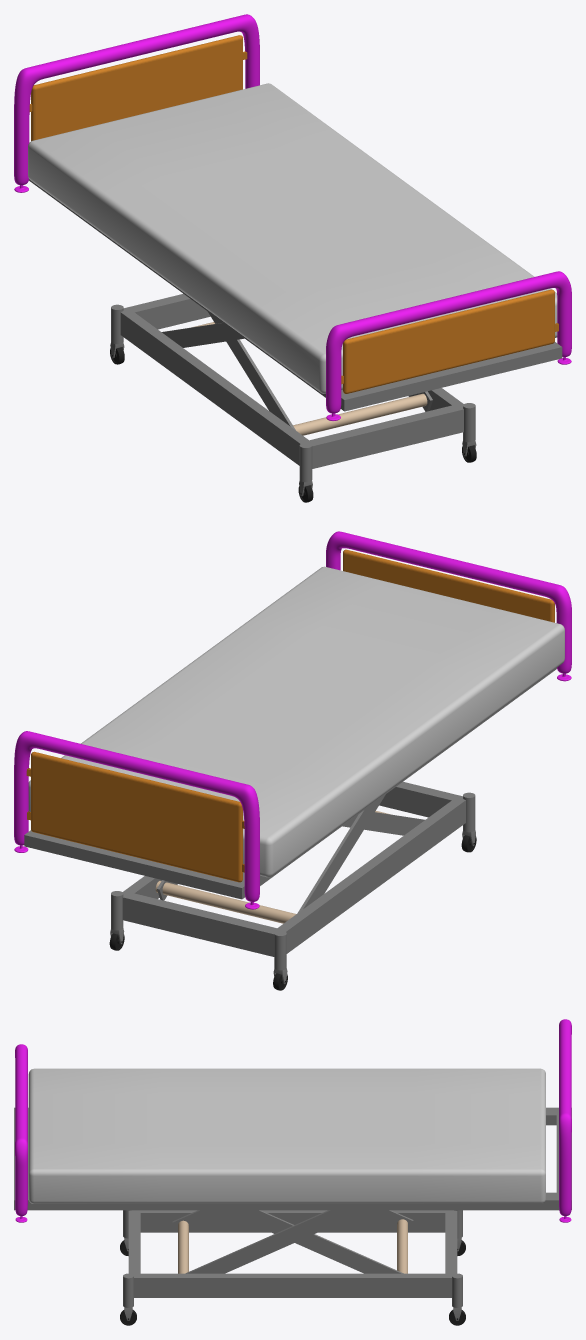
Rendered from HospitalBed_Adjusted_substance.fbx.
3 renders of one model, top to bottom at view 1: azimuth 30°, elevation 25°; view 2: azimuth 150°, elevation 25°; view 3: azimuth 270°, elevation 25°, orthographic. The views are drawn at different scales.
Parts seen in each view (by area): view 1: Matras, Frame, HeadBoard, Backboard, Cube_1, Cube, BedBottom, MotorCilinder, Spring, Spring_2; view 2: Matras, HeadBoard, Frame, Cube_1, Cube, Backboard, BedBottom, Motorcilinder, Spring_2, Spring; view 3: Matras, Frame, BedBottom, Spring_4, Cube_1, Spring_3, Cube, Spring, Motorcilinder, MotorCilinder, Spring_2.
Part boxes in pixels (bbox=[...]): Matras: bbox=[28, 83, 557, 393]; Frame: bbox=[120, 293, 463, 468]; HeadBoard: bbox=[29, 35, 247, 140]; Backboard: bbox=[341, 289, 558, 393]; Cube_1: bbox=[14, 14, 259, 192]; Cube: bbox=[326, 271, 571, 420]; BedBottom: bbox=[29, 179, 562, 411]; MotorCilinder: bbox=[293, 393, 427, 435]; Spring: bbox=[208, 312, 295, 430]; Spring_2: bbox=[161, 322, 244, 347]; Matras: bbox=[28, 566, 564, 877]; HeadBoard: bbox=[26, 751, 244, 882]; Frame: bbox=[122, 781, 465, 956]; Cube_1: bbox=[14, 731, 259, 909]; Cube: bbox=[326, 531, 571, 681]; Backboard: bbox=[343, 549, 554, 622]; BedBottom: bbox=[24, 668, 556, 899]; Motorcilinder: bbox=[155, 881, 296, 923]; Spring_2: bbox=[297, 794, 385, 913]; Spring: bbox=[342, 812, 424, 835]; Matras: bbox=[28, 1068, 545, 1203]; Frame: bbox=[128, 1210, 457, 1297]; BedBottom: bbox=[14, 1107, 571, 1210]; Spring_4: bbox=[185, 1210, 367, 1273]; Cube_1: bbox=[559, 1019, 571, 1222]; Spring_3: bbox=[221, 1210, 403, 1273]; Cube: bbox=[15, 1044, 27, 1222]; Spring: bbox=[172, 1210, 228, 1231]; Motorcilinder: bbox=[397, 1219, 407, 1273]; MotorCilinder: bbox=[178, 1220, 188, 1273]; Spring_2: bbox=[360, 1210, 413, 1230].
Bounding box in the file's own units: 90 × 89.99 × 204.
